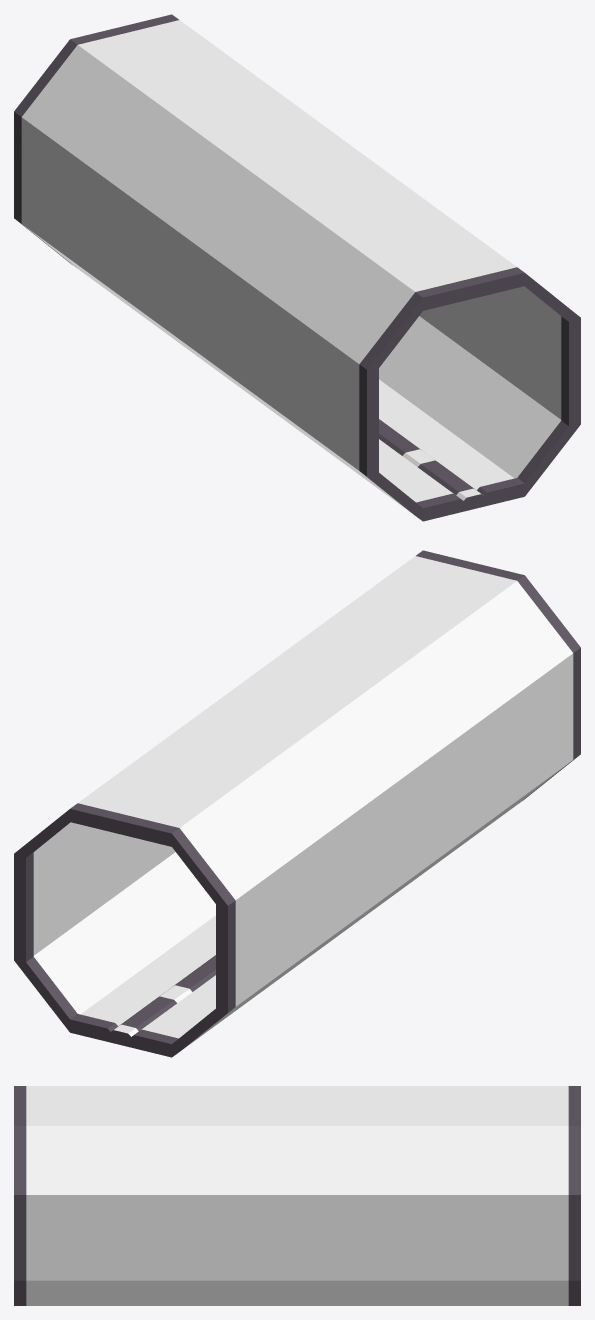
Rendered from TunnelSection01.fbx.
3 views of the same model, one above another, from view 1: azimuth 30°, elevation 25°; view 2: azimuth 150°, elevation 25°; view 3: azimuth 270°, elevation 25° (orthographic). The views are drawn at different scales.
Visible parts, largest first — view 1: TunnelSection01; view 2: TunnelSection01; view 3: TunnelSection01.
Boxes of the visible parts, bbox=[...] form: TunnelSection01: bbox=[14, 14, 580, 521]; TunnelSection01: bbox=[14, 550, 580, 1057]; TunnelSection01: bbox=[14, 1086, 580, 1305].
Bounding box in the file's own units: 42 × 42 × 120.
